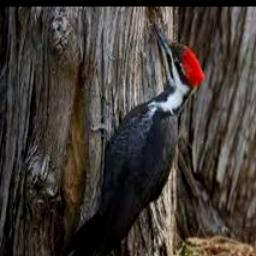Woodpecker: (56, 20, 207, 256)
